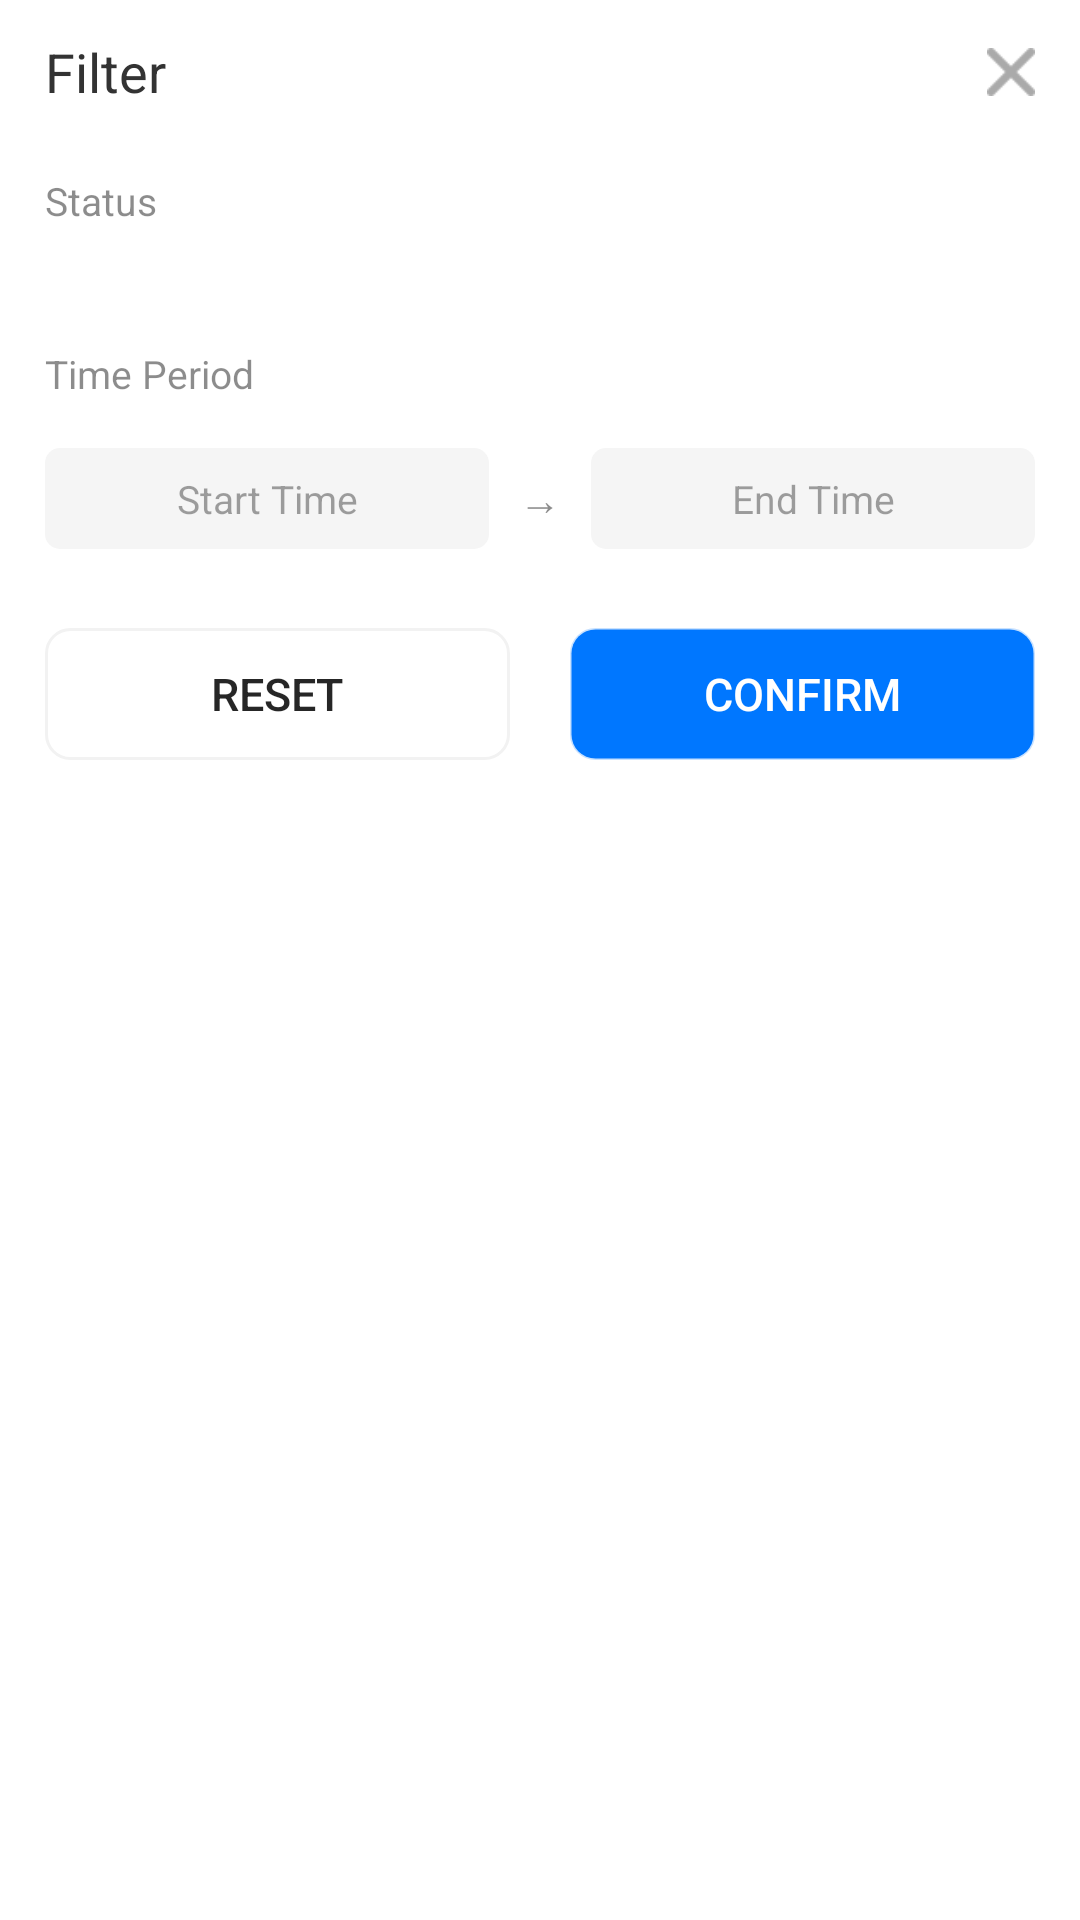

Locate icon controls on the screen. Image size 1080 × 1920, boxes as (x1, y1, x2, y2).
close: (987, 48, 1035, 96)
